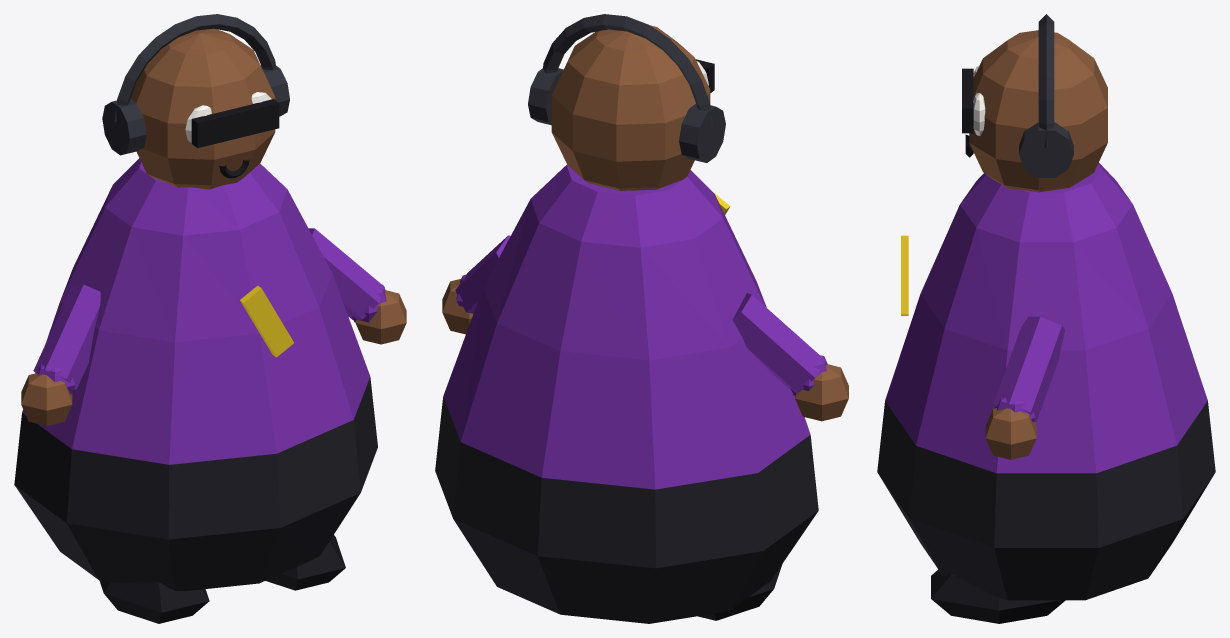
File: npc_dj_bombo.glb
The picture shows the model from 3 angles, left to right: view 1: azimuth 30°, elevation 25°; view 2: azimuth 150°, elevation 25°; view 3: azimuth 270°, elevation 25°; orthographic projection. The views are drawn at different scales.
Parts seen in each view (by area): view 1: body_dj_shirt, body_dj_pants, head_skin_cacao, arms_dj_shirt, head_dj_phones, legs_black, arms_skin_cacao, face_black, body_dj_bolt; view 2: body_dj_shirt, body_dj_pants, head_skin_cacao, head_dj_phones, arms_dj_shirt, arms_skin_cacao, legs_black; view 3: body_dj_shirt, body_dj_pants, head_skin_cacao, arms_dj_shirt, head_dj_phones, legs_black, arms_skin_cacao, face_black, body_dj_bolt, face_white.
Boxes of the visible parts, bbox=[...] form: body_dj_shirt: bbox=[22, 158, 370, 464]; body_dj_pants: bbox=[14, 377, 377, 591]; head_skin_cacao: bbox=[130, 28, 275, 189]; arms_dj_shirt: bbox=[33, 228, 386, 394]; head_dj_phones: bbox=[102, 14, 289, 155]; legs_black: bbox=[99, 535, 345, 623]; arms_skin_cacao: bbox=[21, 290, 406, 425]; face_black: bbox=[191, 99, 279, 178]; body_dj_bolt: bbox=[240, 285, 293, 357]; body_dj_shirt: bbox=[443, 164, 810, 489]; body_dj_pants: bbox=[435, 397, 818, 623]; head_skin_cacao: bbox=[551, 25, 710, 190]; head_dj_phones: bbox=[528, 14, 725, 162]; arms_dj_shirt: bbox=[455, 235, 827, 395]; arms_skin_cacao: bbox=[442, 279, 848, 421]; legs_black: bbox=[698, 564, 782, 620]; body_dj_shirt: bbox=[885, 162, 1207, 473]; body_dj_pants: bbox=[877, 401, 1215, 600]; head_skin_cacao: bbox=[969, 30, 1107, 192]; arms_dj_shirt: bbox=[993, 316, 1064, 422]; head_dj_phones: bbox=[1019, 14, 1073, 177]; legs_black: bbox=[931, 569, 1065, 623]; arms_skin_cacao: bbox=[985, 408, 1036, 459]; face_black: bbox=[962, 68, 973, 157]; body_dj_bolt: bbox=[901, 235, 908, 315]; face_white: bbox=[973, 66, 985, 135].
Size of the model in its own units: 1.13 by 1.57 by 0.86.
